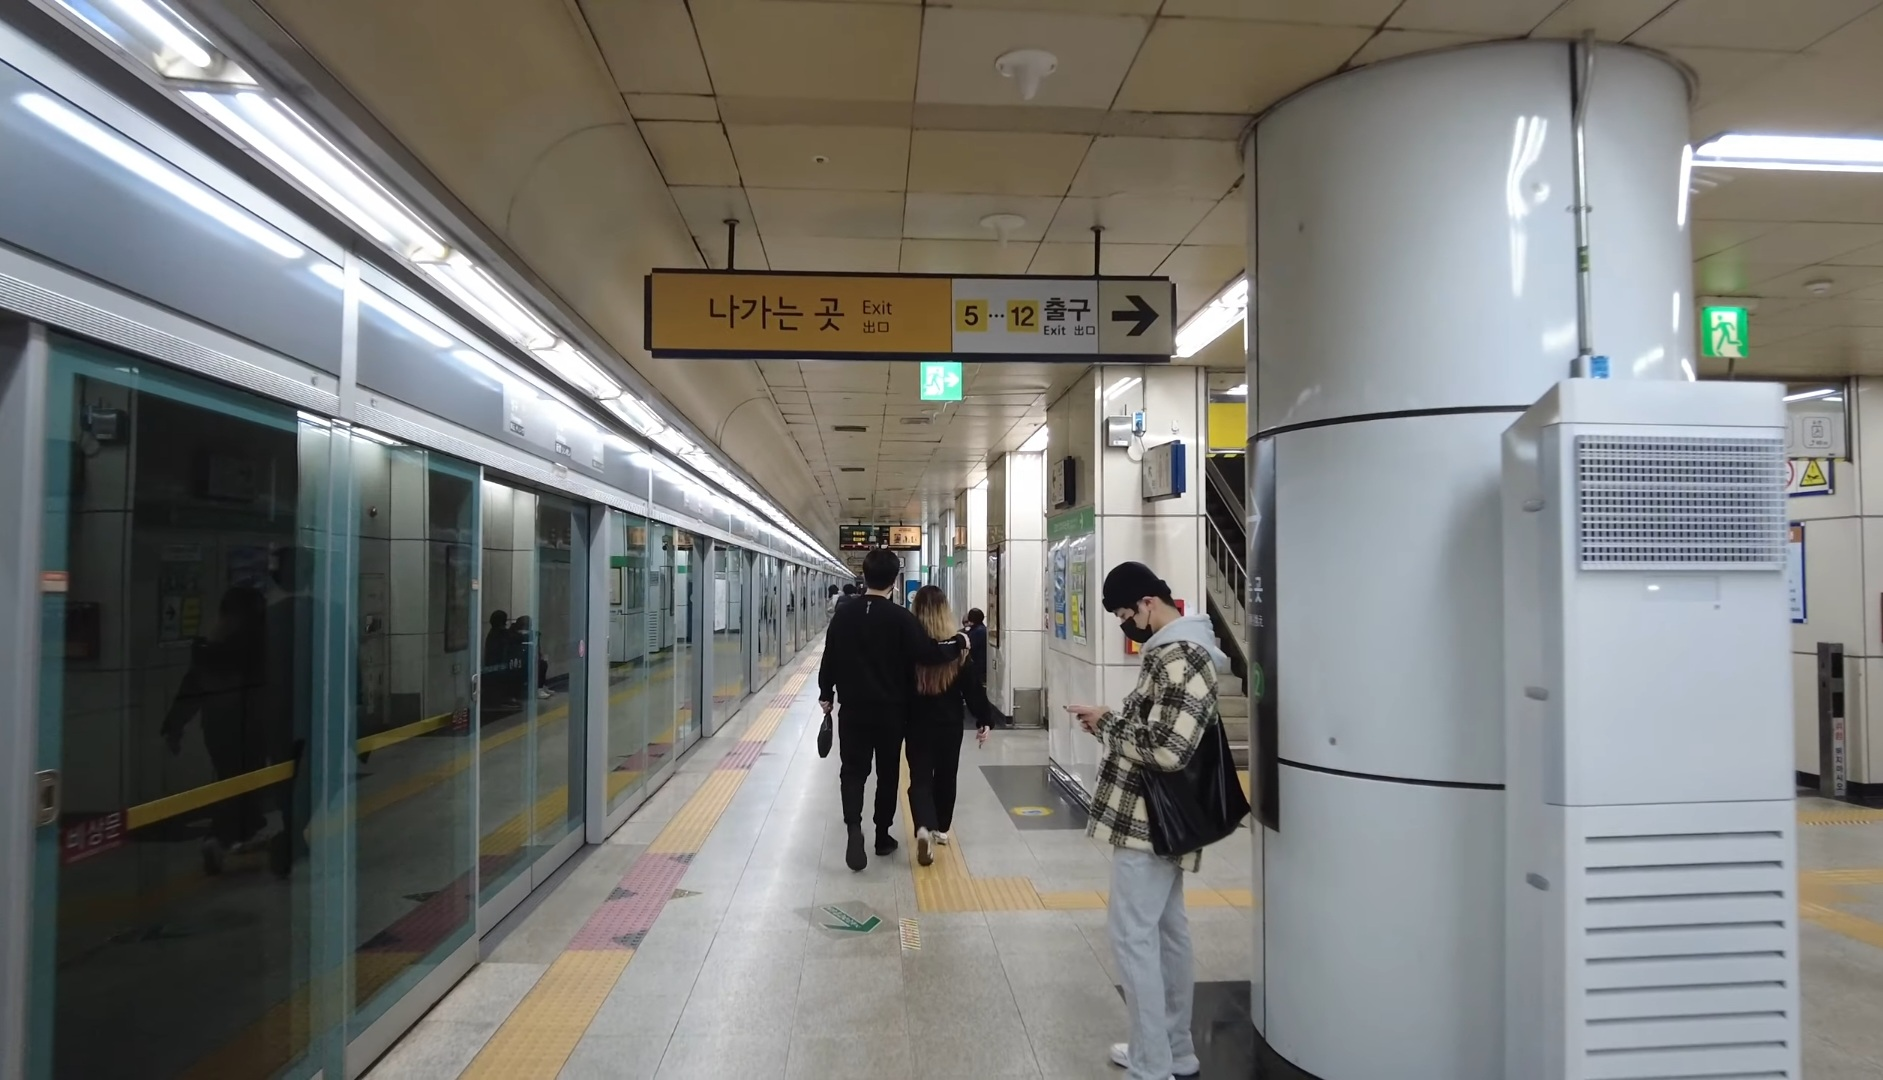signBoard: (641, 265, 1185, 373)
